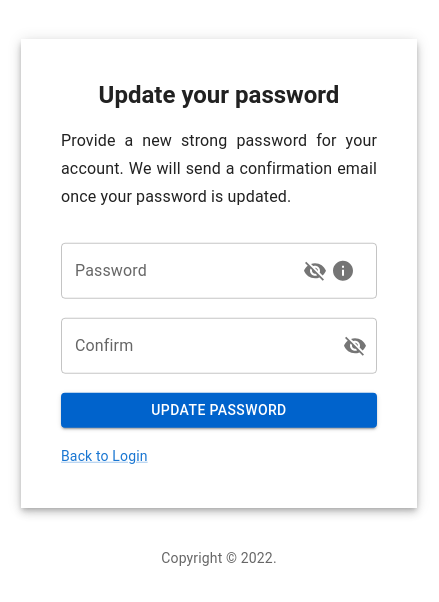
Test case: Testing the resetPasswordConfirm view › bad request response throws field errors correctly
The width and height of the screenshot is (439, 602).
Click the button "Update Password". click: [219, 410]
box: x1=61 y1=393 x2=377 y2=427
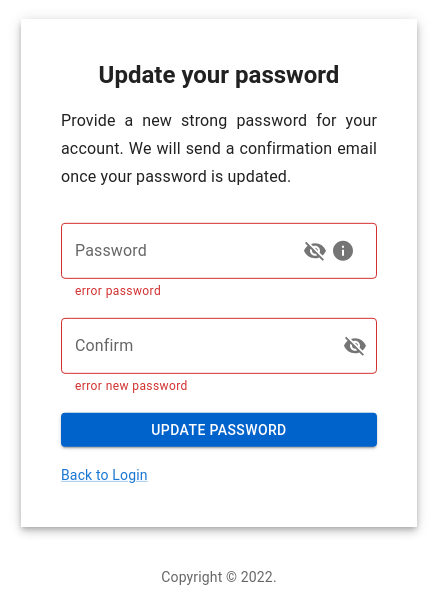
Check: the text "error password" is shown, box x1=75 y1=284 x2=161 y2=298
Check: the text "error new password" is shown, box x1=75 y1=379 x2=188 y2=393
